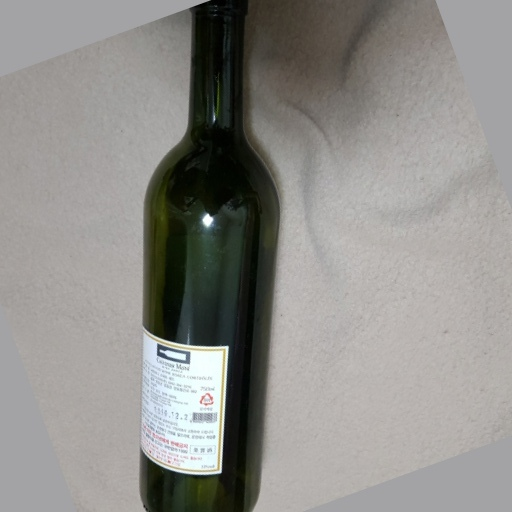Glass_2: (127, 1, 283, 512)
